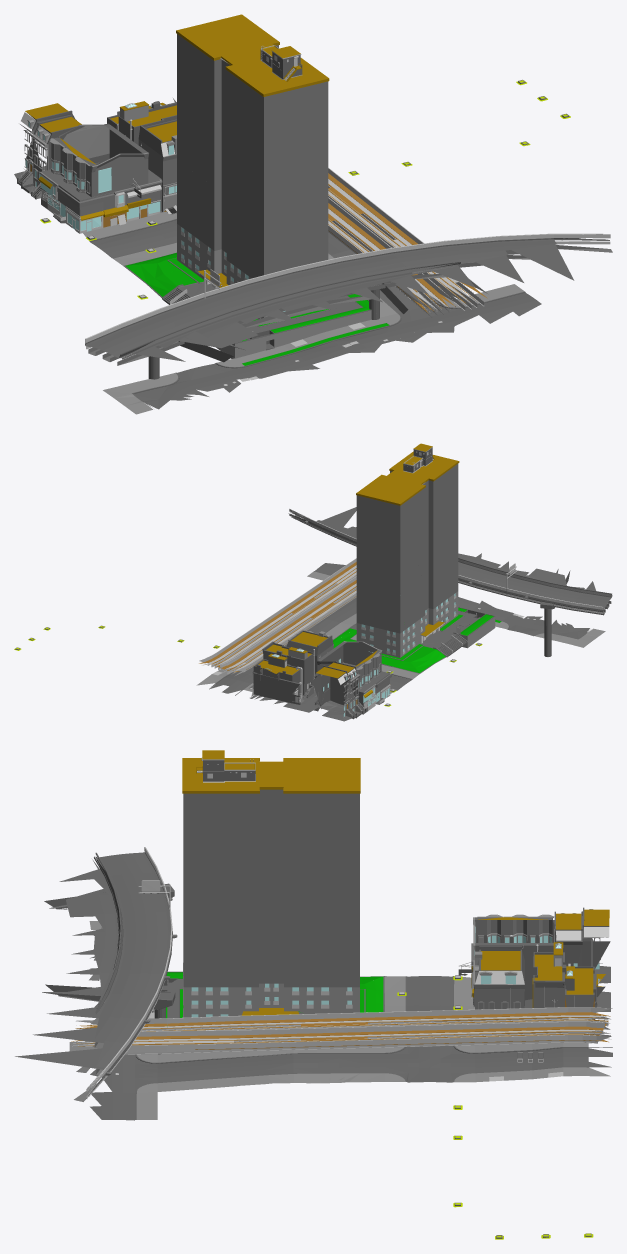
File: brook_s2_6.FBX
3 renders of one model, top to bottom at view 1: azimuth 30°, elevation 25°; view 2: azimuth 150°, elevation 25°; view 3: azimuth 270°, elevation 25°, orthographic. The views are drawn at different scales.
Visible parts, largest first — view 1: unnamed, null; view 2: unnamed, null; view 3: unnamed, null.
Part boxes in pixels (x1,y1,x2,y2): unnamed: [85, 14, 612, 414]; null: [14, 96, 213, 283]; unnamed: [14, 443, 612, 697]; null: [250, 505, 434, 721]; unnamed: [15, 750, 612, 1239]; null: [342, 907, 611, 1053].
Bounding box in the file's own units: 205 × 86.33 × 159.
